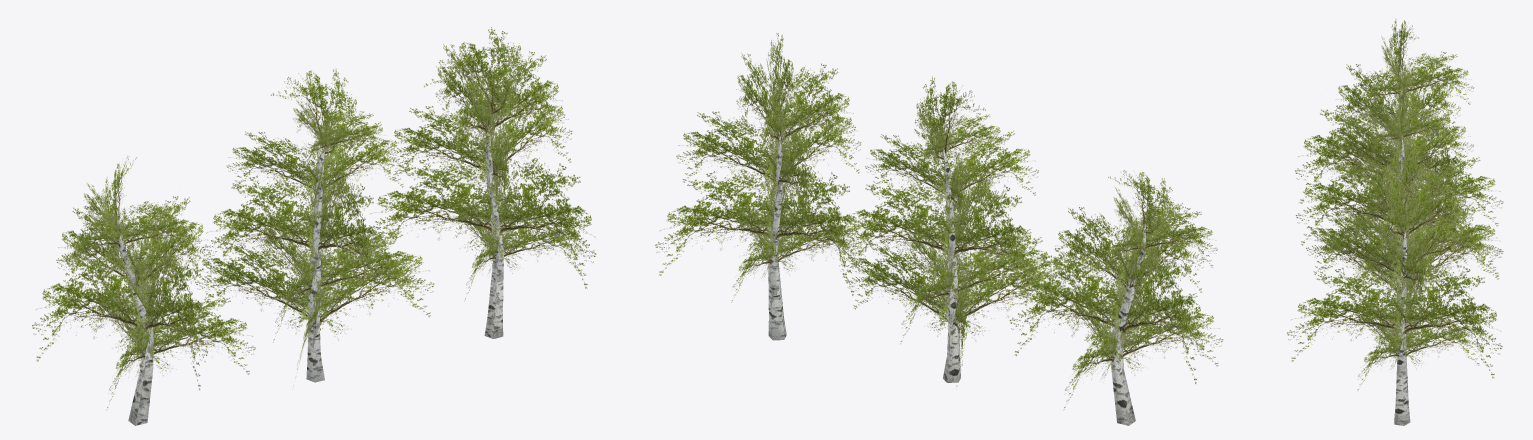
The model's file is birch_trees_pack.glb.
3 renders of one model, left to right at view 1: azimuth 30°, elevation 25°; view 2: azimuth 150°, elevation 25°; view 3: azimuth 270°, elevation 25°, orthographic. The views are drawn at different scales.
Parts seen in each view (by area): view 1: Tree_Birch_T1, Tree_Birch_T2, Tree_Birch_T3; view 2: Tree_Birch_T1, Tree_Birch_T2, Tree_Birch_T3; view 3: Tree_Birch_T2, Tree_Birch_T1, Tree_Birch_T3.
Boxes of the visible parts, x1=… form: Tree_Birch_T1: x1=195, y1=68, x2=434, y2=386; Tree_Birch_T2: x1=366, y1=27, x2=596, y2=338; Tree_Birch_T3: x1=32, y1=155, x2=255, y2=425; Tree_Birch_T1: x1=837, y1=76, x2=1073, y2=386; Tree_Birch_T2: x1=655, y1=33, x2=862, y2=340; Tree_Birch_T3: x1=1009, y1=170, x2=1223, y2=425; Tree_Birch_T2: x1=1287, y1=140, x2=1502, y2=425; Tree_Birch_T1: x1=1296, y1=62, x2=1503, y2=345; Tree_Birch_T3: x1=1295, y1=18, x2=1503, y2=257.
Bounding box in the file's own units: 31.87 × 17.48 × 13.46.
Materials: 1 (1 with a texture image).
